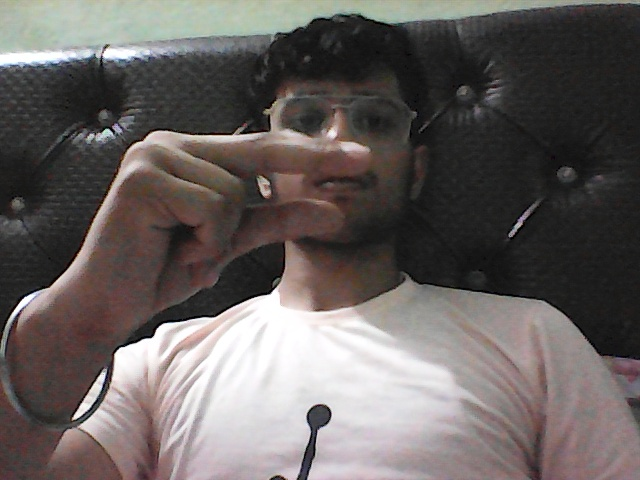no: (83, 89, 381, 308)
